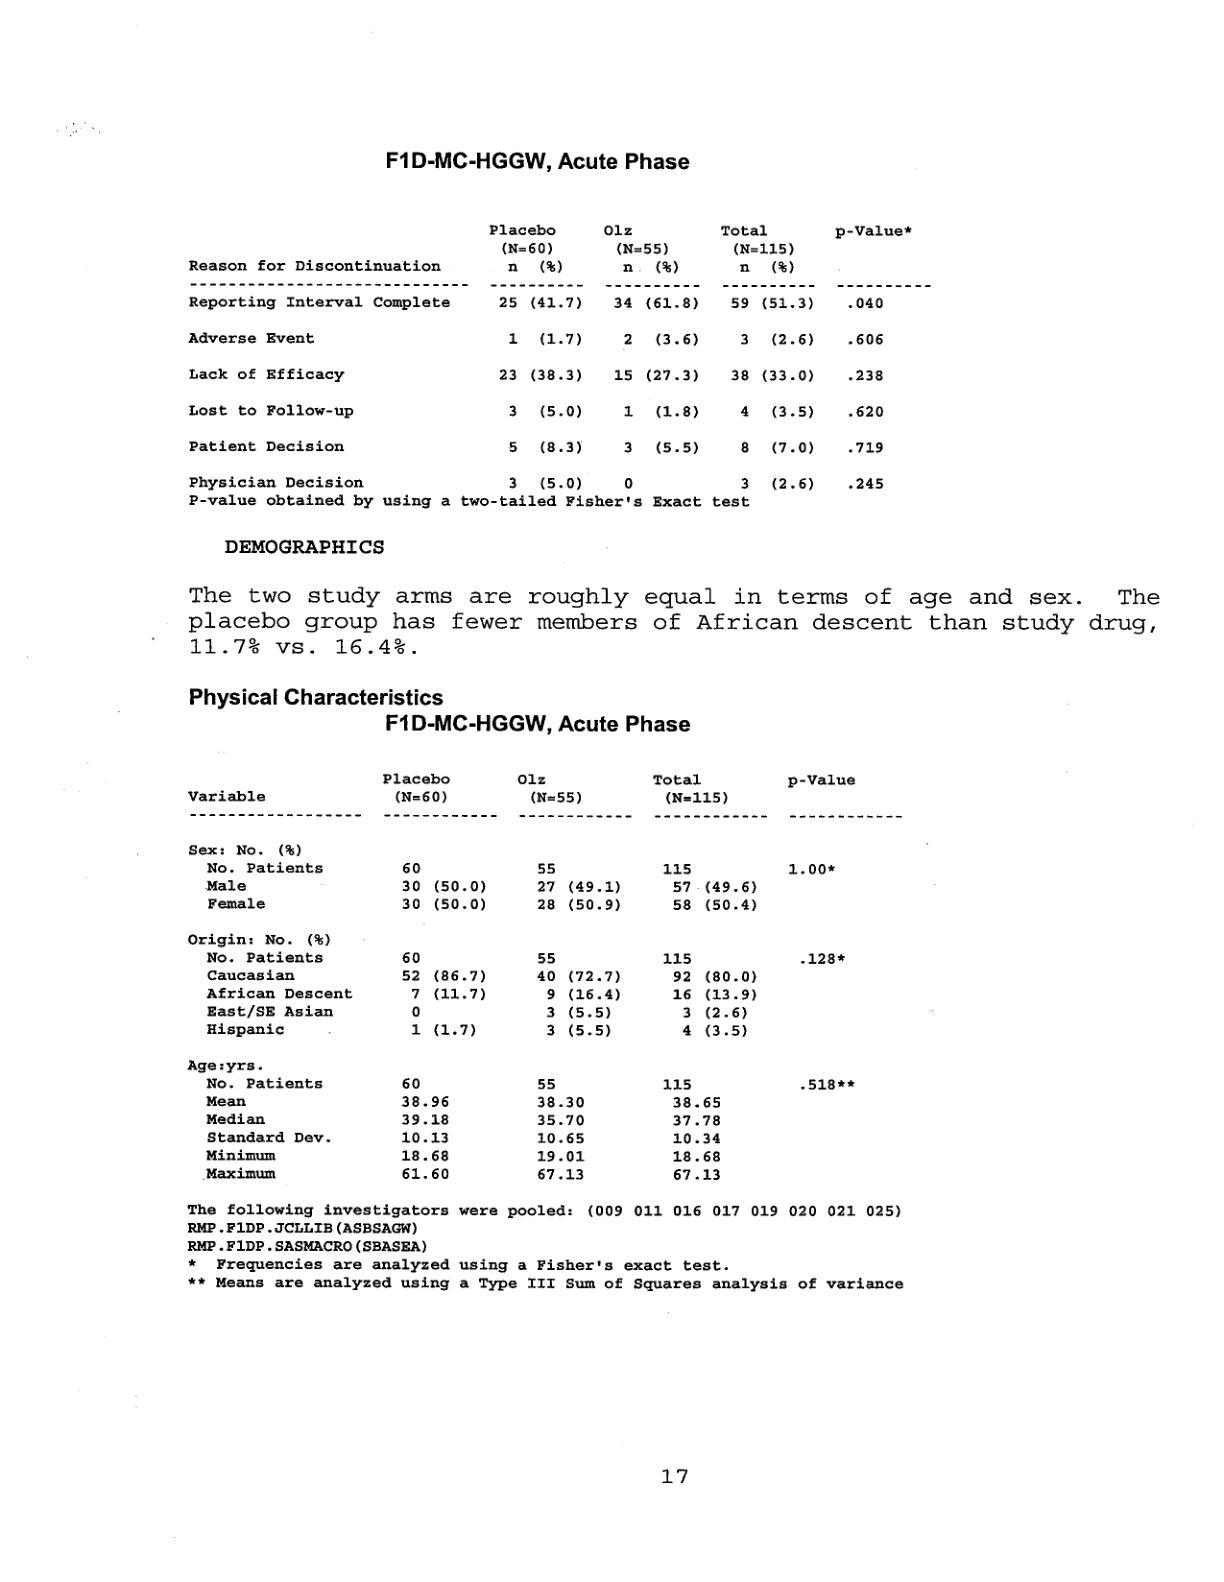nolines: (185, 772, 905, 1184), (185, 217, 931, 494)
